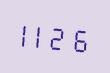one: (18, 16, 35, 51), (36, 18, 53, 52)
six: (72, 21, 89, 55)
two: (54, 20, 71, 54)
